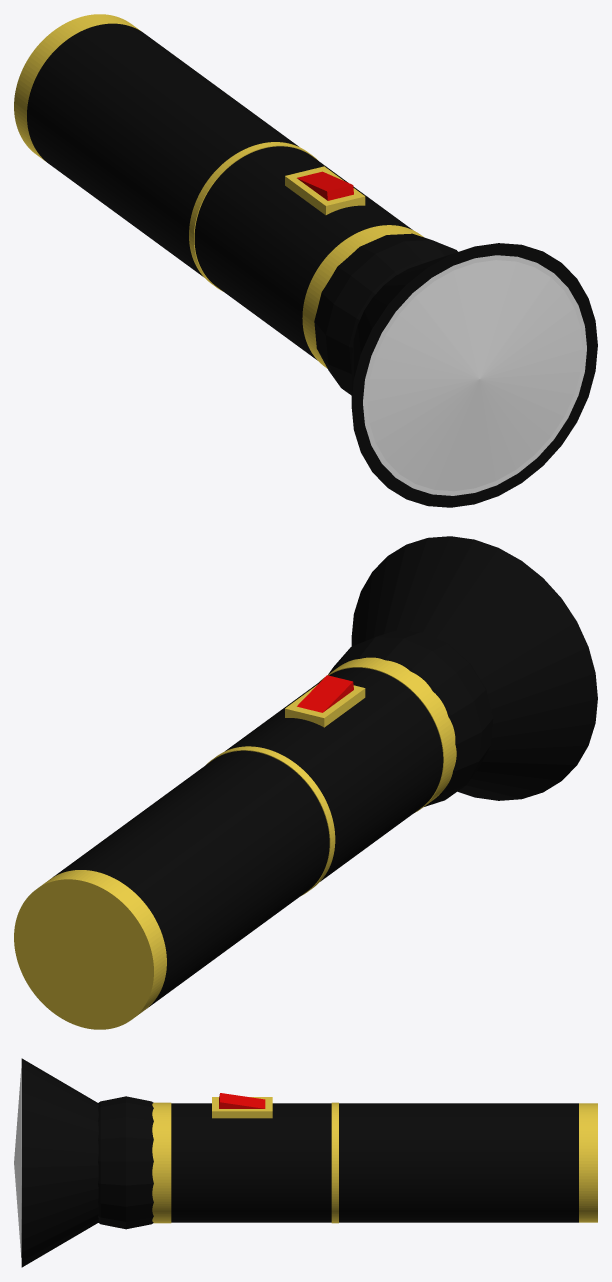
The model's file is linterna.fbx.
3 renders of one model, top to bottom at view 1: azimuth 30°, elevation 25°; view 2: azimuth 150°, elevation 25°; view 3: azimuth 270°, elevation 25°, orthographic. The views are drawn at different scales.
Visible parts, largest first — view 1: Cilindro, Cono.001, Cono, Cilindro.001, Cilindro.002, Cubo, Cilindro.003, Cubo.001; view 2: Cilindro, Cilindro.001, Cilindro.002, Cilindro.003, Cubo, Cubo.001; view 3: Cilindro, Cilindro.002, Cilindro.001, Cilindro.003, Cubo, Cono.001, Cubo.001.
Boxes of the visible parts, x1,y1,x2,y2 form: Cilindro: (27,23,597,507); Cono.001: (363,255,582,491); Cono: (363,255,586,495); Cilindro.001: (14,14,140,161); Cilindro.002: (302,225,423,368); Cubo: (285,166,365,215); Cilindro.003: (189,142,318,291); Cubo.001: (297,171,353,200); Cilindro: (52,536,597,1008); Cilindro.001: (14,870,166,1029); Cilindro.002: (319,657,456,812); Cilindro.003: (206,746,335,895); Cubo: (285,684,365,727); Cubo.001: (297,675,353,712); Cilindro: (21,1058,578,1267); Cilindro.002: (152,1102,171,1223); Cilindro.001: (579,1103,597,1222); Cilindro.003: (331,1102,338,1223); Cubo: (212,1097,272,1118); Cono.001: (14,1074,20,1251); Cubo.001: (219,1093,265,1108).
Bounding box in the file's own units: 88 × 88 × 245.
